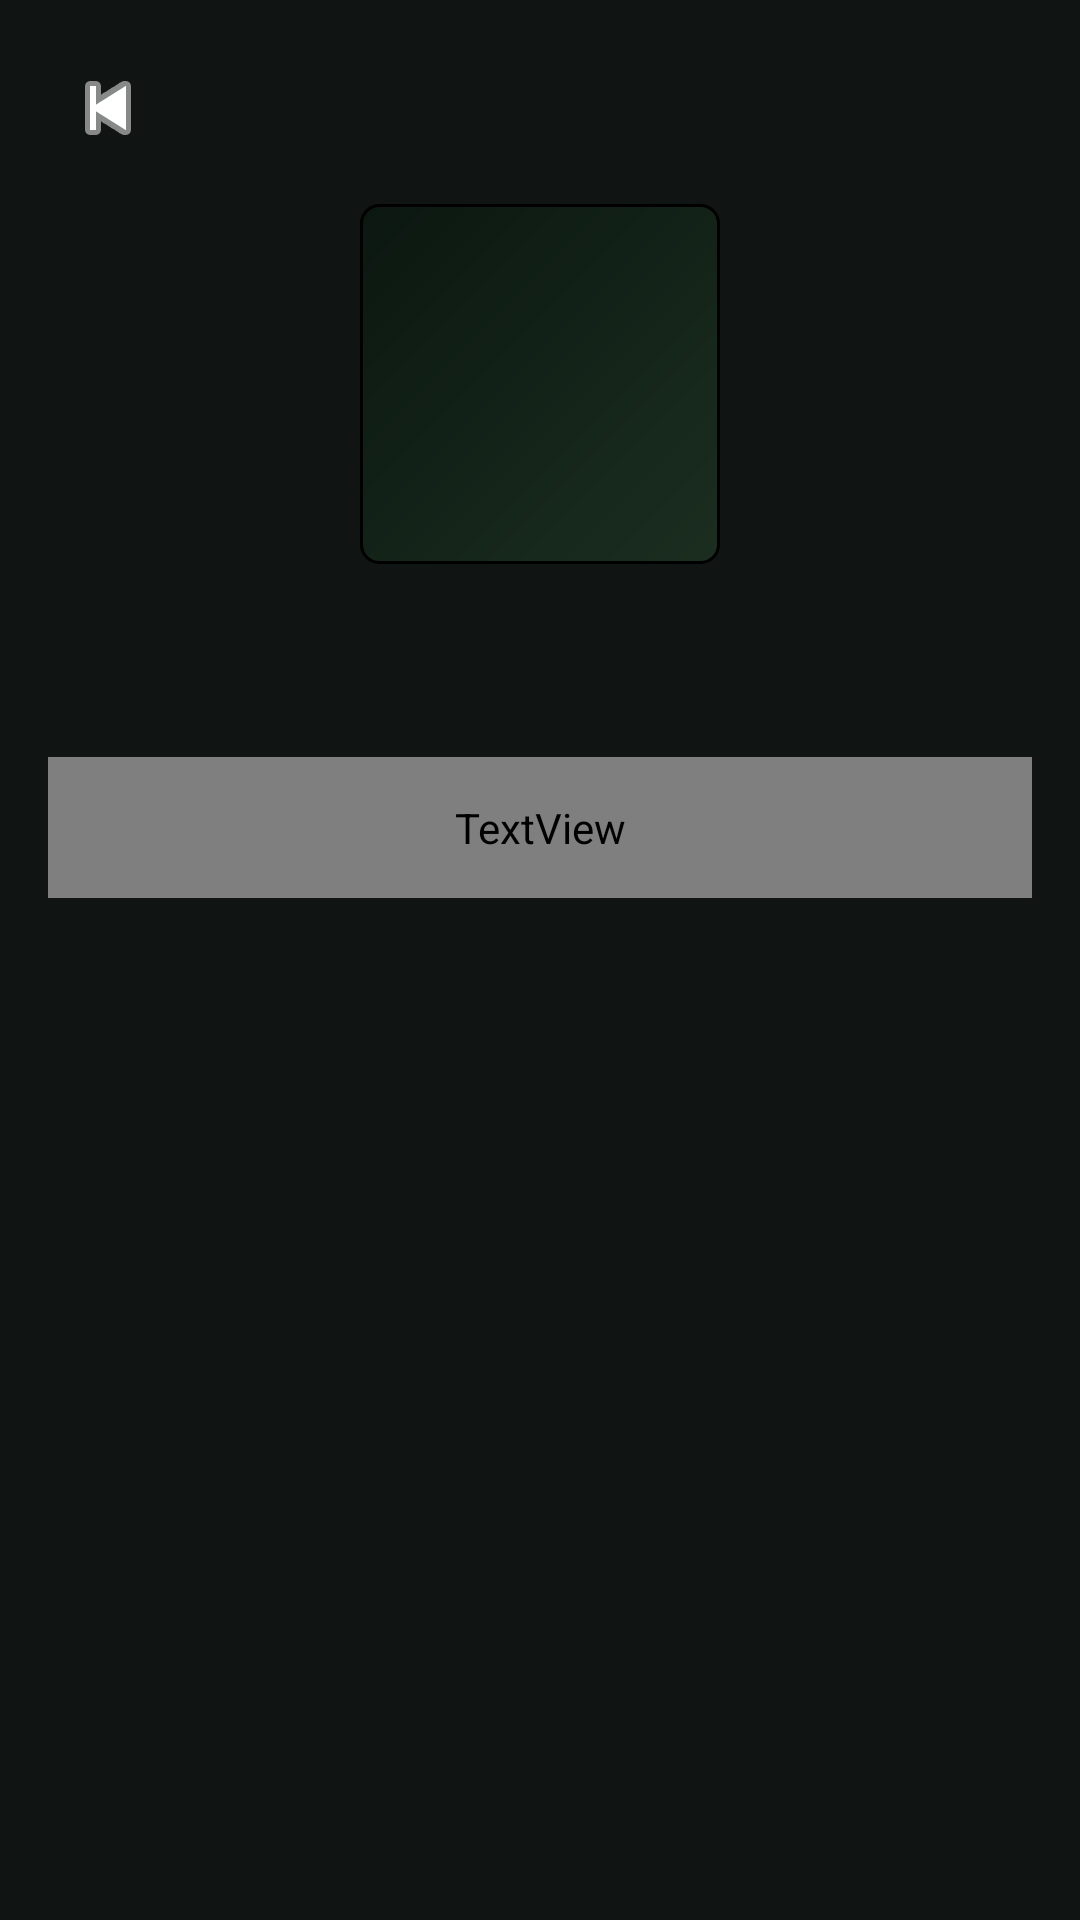

Screen size 1080 x 1920. Icon name, then its center in pixels as (x,y):
previous: (108,108)
